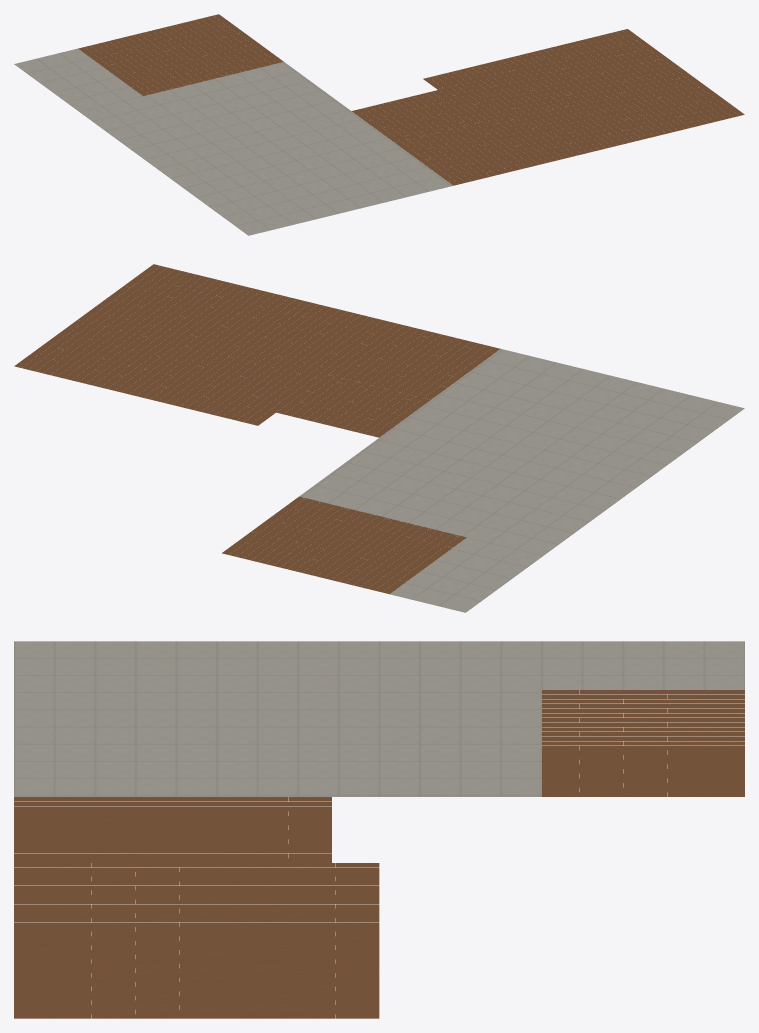
Rendered from floor-finishes-ground-v002.glb.
The picture shows the model from 3 angles, top to bottom: view 1: azimuth 30°, elevation 25°; view 2: azimuth 150°, elevation 25°; view 3: azimuth 270°, elevation 25°; orthographic projection. The views are drawn at different scales.
Visible parts, largest first — view 1: ground floor finishes; view 2: ground floor finishes; view 3: ground floor finishes.
Part boxes in pixels (left/top/right/bottom): ground floor finishes: left=14, top=14, right=744, bottom=235; ground floor finishes: left=14, top=264, right=744, bottom=612; ground floor finishes: left=14, top=641, right=744, bottom=1018.
Bounding box in the file's own units: 13.2 × 0 × 10.8.
Materials: 2 (2 with a texture image).
